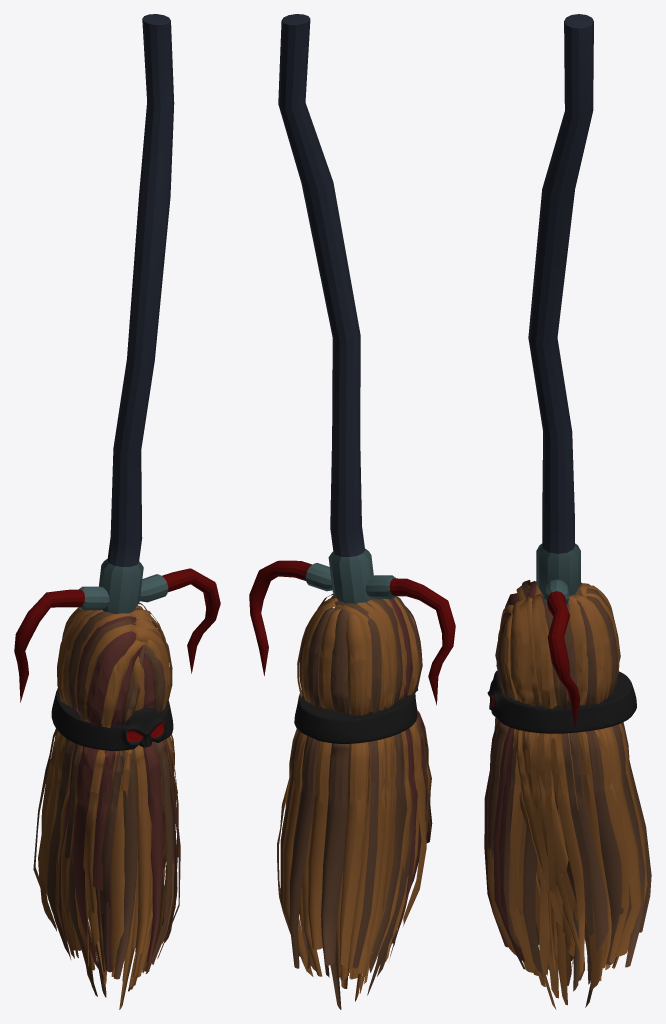
File: broom.obj
3 renders of one model, left to right at view 1: azimuth 30°, elevation 25°; view 2: azimuth 150°, elevation 25°; view 3: azimuth 270°, elevation 25°, orthographic. The views are drawn at different scales.
Parts seen in each view (by area): view 1: polySurface205; view 2: polySurface205; view 3: polySurface205.
Boxes of the visible parts, x1=… form: polySurface205: x1=14, y1=14, x2=220, y2=1009; polySurface205: x1=249, y1=14, x2=455, y2=1009; polySurface205: x1=484, y1=14, x2=651, y2=1009.
Bounding box in the file's own units: 0.2317 × 1.06 × 0.1588.
